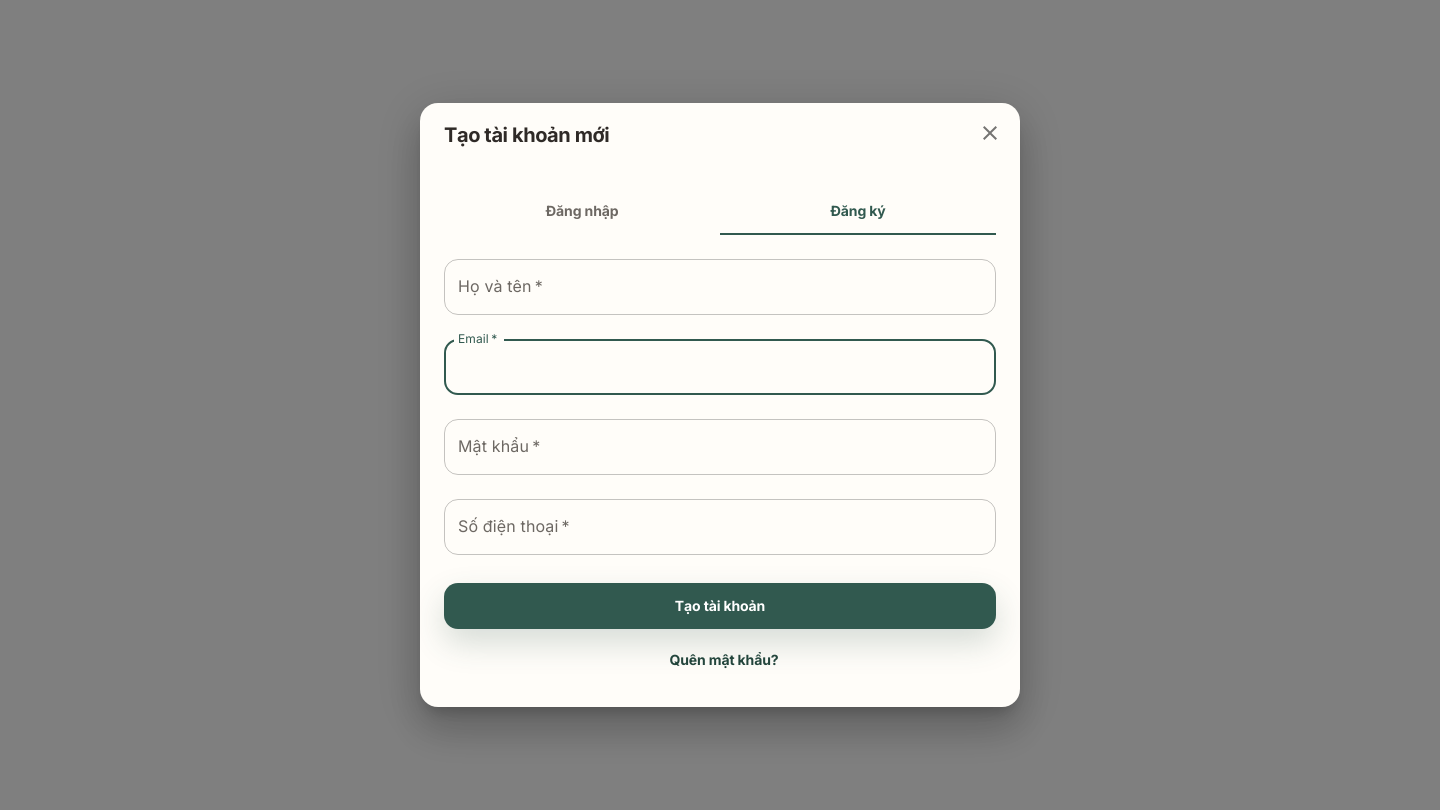
authentication dialog › blocks invalid registration without sending a request
Click the button "Tạo tài khoản": [720, 606] box [444,583,996,629]
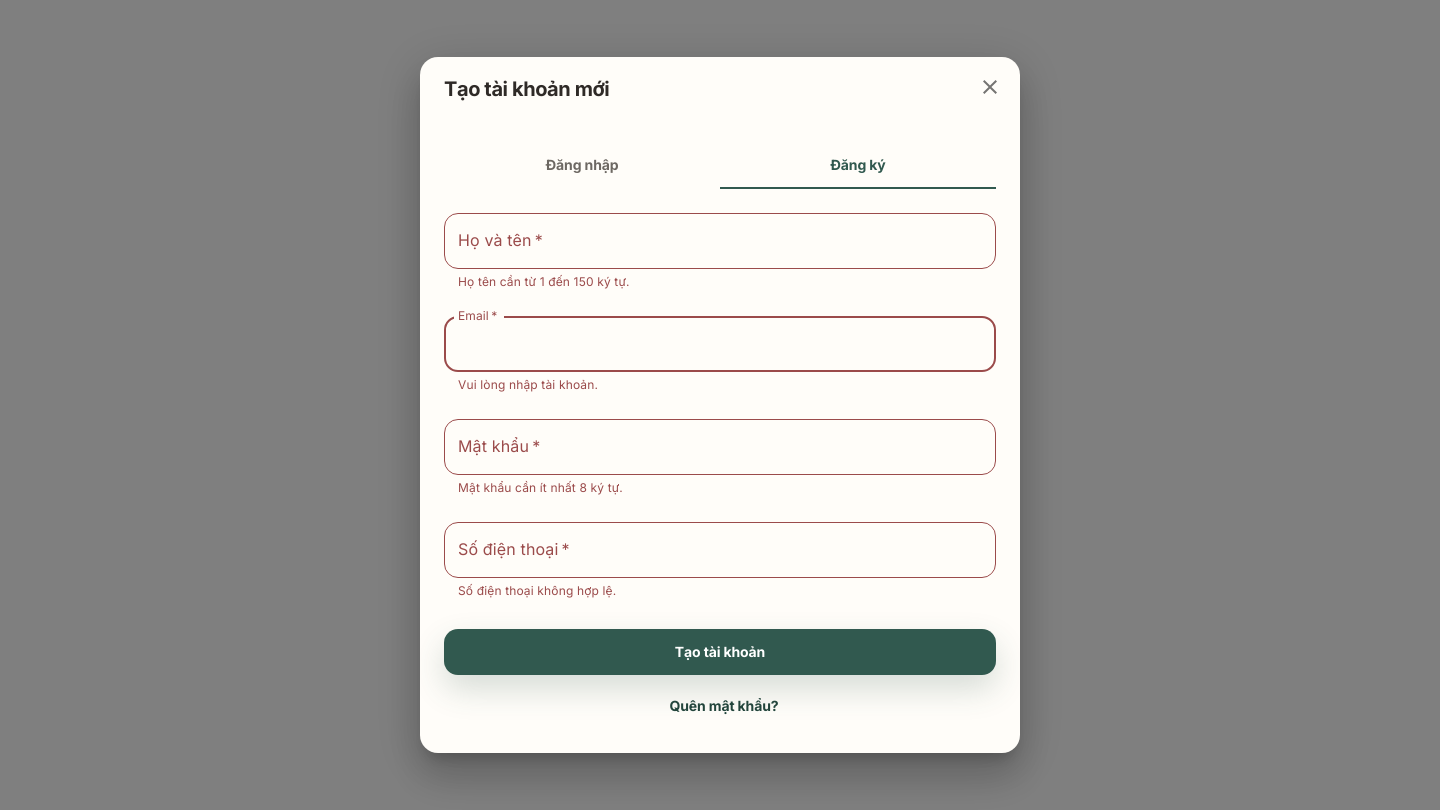
expect the text "Họ tên cần từ 1 đến 150 ký tự." is shown: met, box [458,274,630,289]
expect the text "Mật khẩu cần ít nhất 8 ký tự." is shown: met, box [458,480,623,495]
